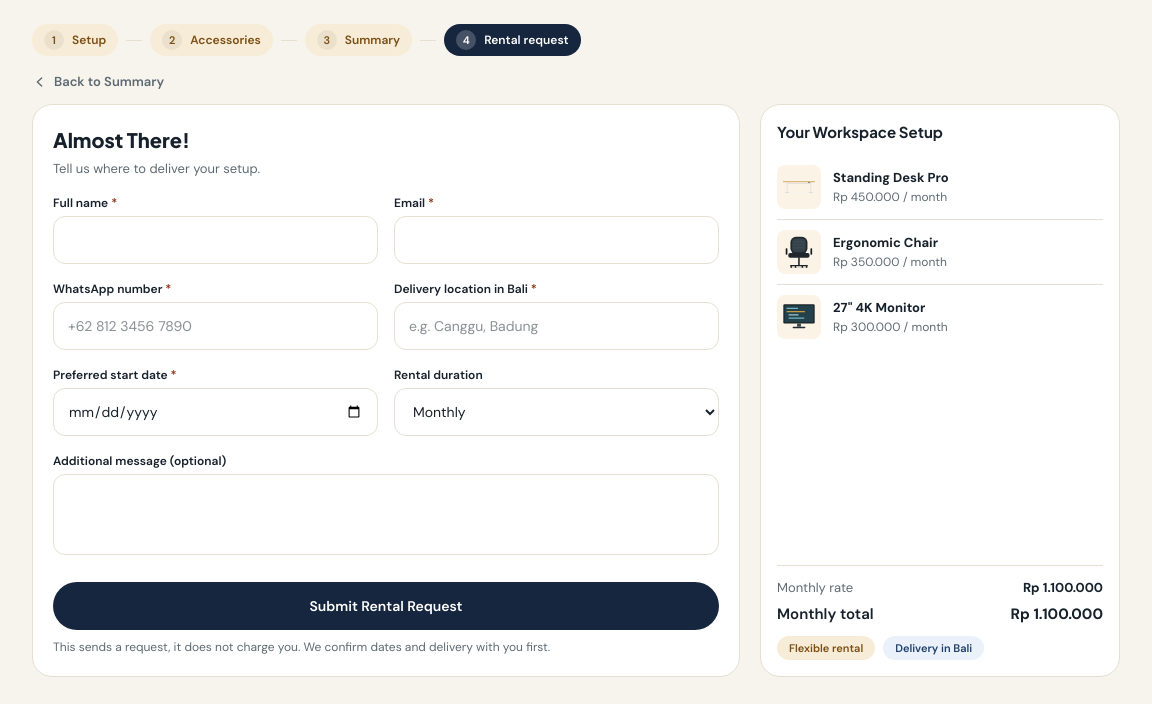
Scenario: CheckoutContent › shows field-level and summary validation errors when submitted empty
The width and height of the screenshot is (1152, 704).
Click the button "Submit Rental Request" at (386, 606), box [53, 582, 719, 630]
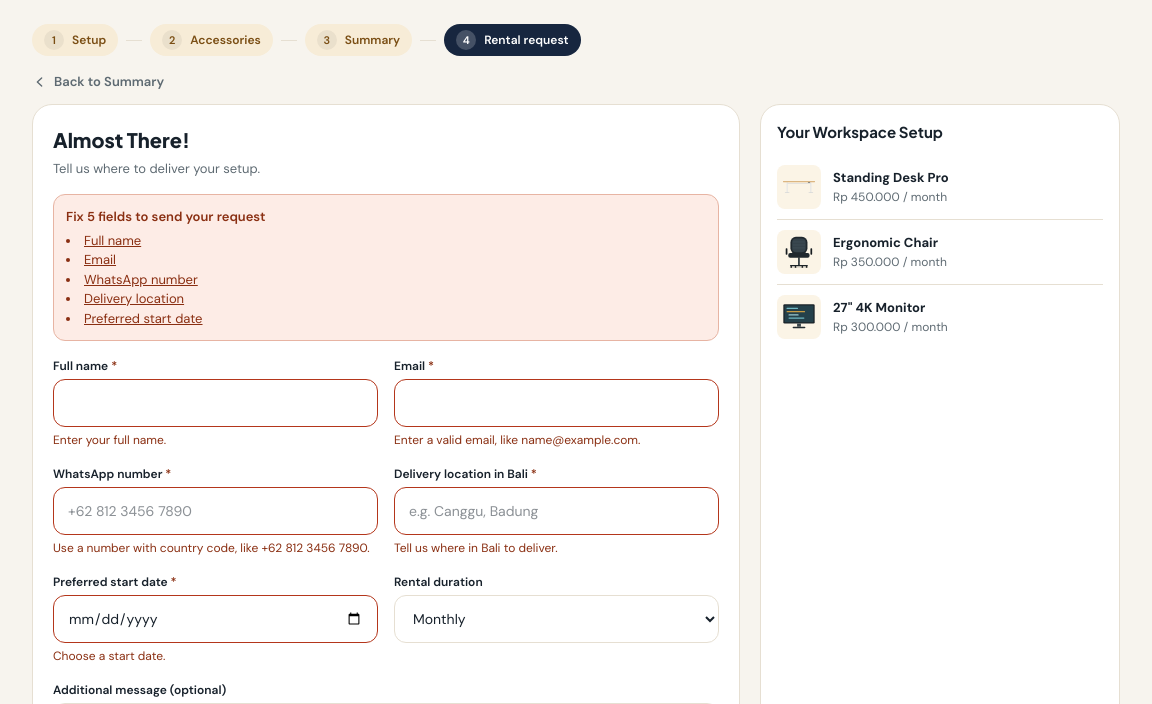
Now the text "Fix 5 fields to send your request" is shown, box [66, 208, 265, 225]
Now the text "Enter your full name." is shown, box [53, 432, 166, 448]
